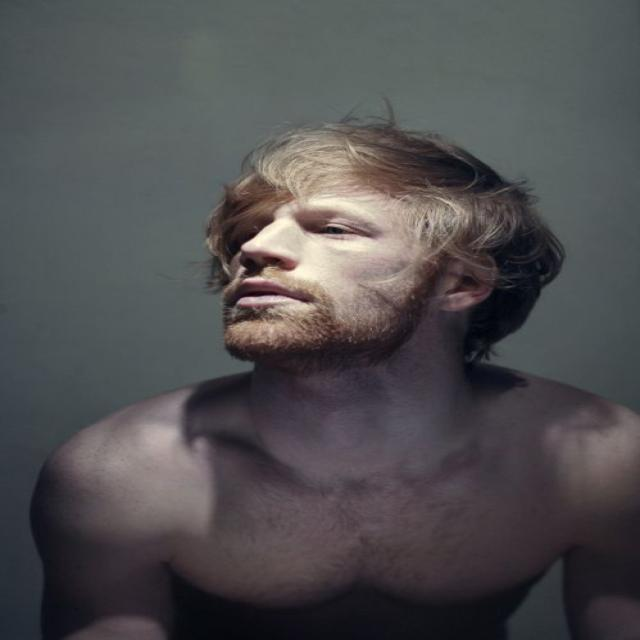front: (210, 181, 392, 333)
